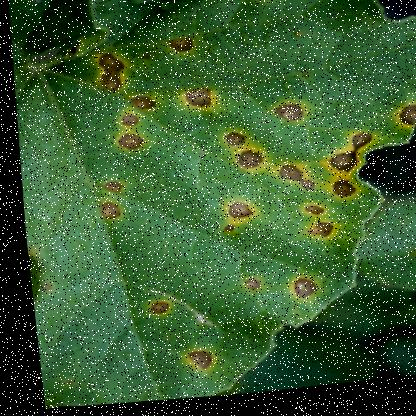AlternariaBrassicicola: (313, 136, 372, 183), (87, 47, 129, 97), (211, 201, 256, 245), (271, 165, 311, 201), (174, 86, 216, 118), (275, 277, 313, 311), (260, 104, 305, 131), (173, 349, 210, 379), (226, 151, 267, 178), (159, 36, 198, 62), (388, 106, 415, 140), (320, 184, 357, 208), (121, 94, 160, 116), (92, 199, 119, 228), (297, 226, 336, 246), (135, 299, 167, 322), (113, 133, 145, 156), (217, 130, 245, 154), (230, 279, 258, 297), (293, 207, 322, 224), (113, 113, 139, 131), (99, 182, 120, 196), (252, 0, 279, 8)
